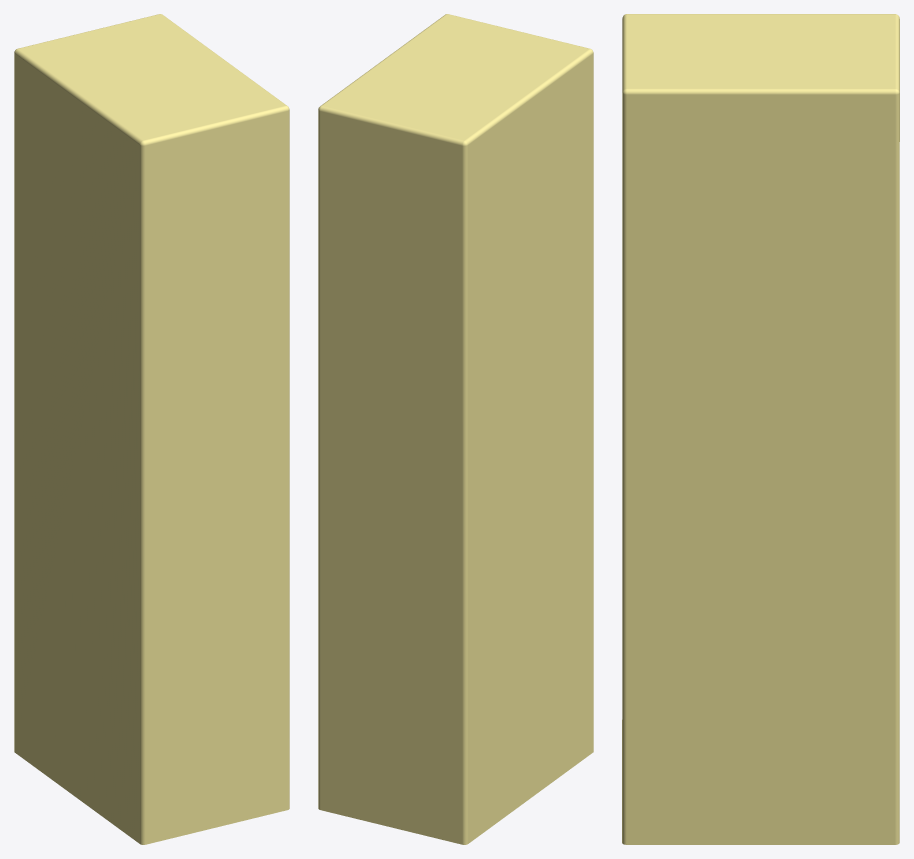
3 renders of one model, left to right at view 1: azimuth 30°, elevation 25°; view 2: azimuth 150°, elevation 25°; view 3: azimuth 270°, elevation 25°, orthographic. The views are drawn at different scales.
Parts seen in each view (by area): view 1: 0C6E641F3DC18749666DF3C59C03E7384C05AFCA|:|3F635CC986B4_625e; view 2: 0C6E641F3DC18749666DF3C59C03E7384C05AFCA|:|3F635CC986B4_625e; view 3: 0C6E641F3DC18749666DF3C59C03E7384C05AFCA|:|3F635CC986B4_625e.
Boxes of the visible parts, x1=… form: 0C6E641F3DC18749666DF3C59C03E7384C05AFCA|:|3F635CC986B4_625e: x1=14, y1=14, x2=289, y2=844; 0C6E641F3DC18749666DF3C59C03E7384C05AFCA|:|3F635CC986B4_625e: x1=318, y1=14, x2=593, y2=844; 0C6E641F3DC18749666DF3C59C03E7384C05AFCA|:|3F635CC986B4_625e: x1=622, y1=14, x2=899, y2=844.
Bounding box in the file's own units: 40 × 180 × 60.06.
